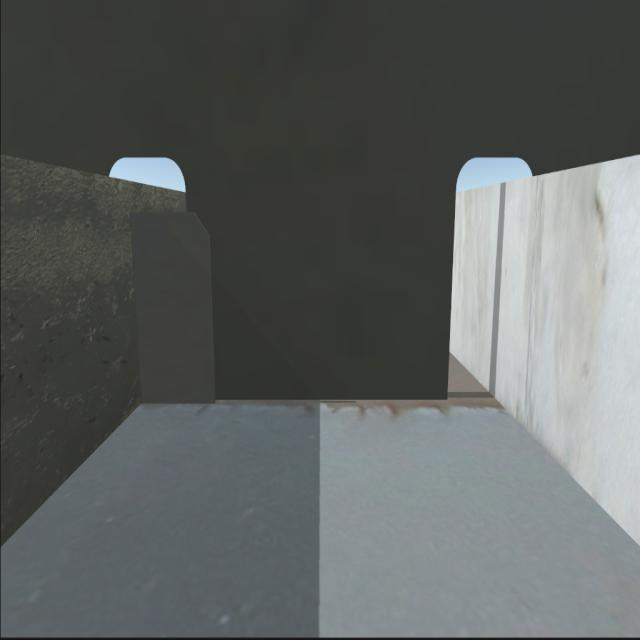fillet_yong_jeop_jang: (140, 398, 448, 412)
longi_yong_jeop_jang: (128, 217, 149, 400)
plate_CP03: (138, 209, 220, 403)
